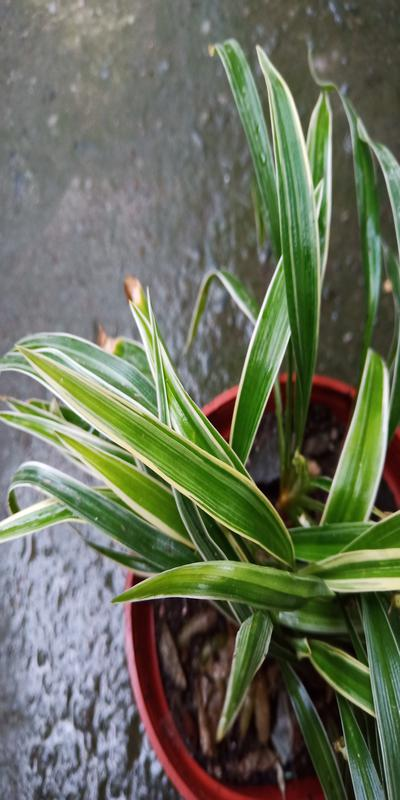Yellow and green leaf: (32, 298, 397, 731)
